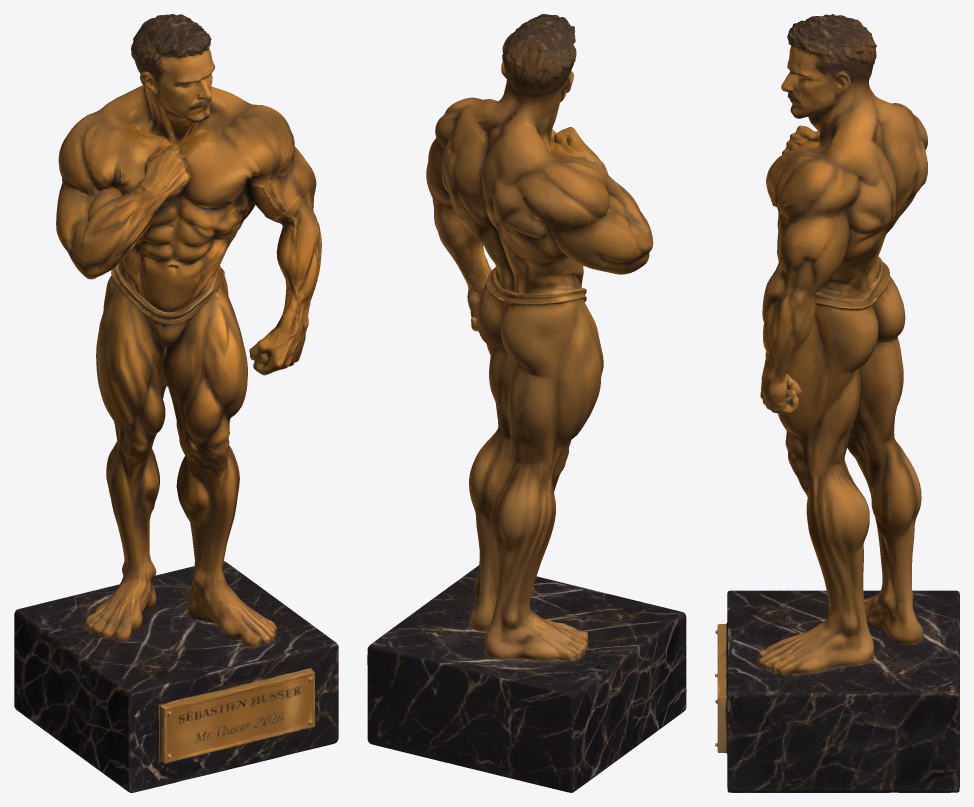
Rendered from avatar-ar.glb.
3 views of the same model, side by side, from view 1: azimuth 30°, elevation 25°; view 2: azimuth 150°, elevation 25°; view 3: azimuth 270°, elevation 25° (orthographic). The views are drawn at different scales.
Parts seen in each view (by area): view 1: Mesh_0; view 2: Mesh_0; view 3: Mesh_0.
Part boxes in pixels (x1,y1,x2,y2): Mesh_0: (14, 14, 338, 792); Mesh_0: (367, 14, 686, 792); Mesh_0: (715, 14, 959, 792).
Size of the model in its own units: 0.1518 by 0.45 by 0.1389.
1 material, 1 textured.
